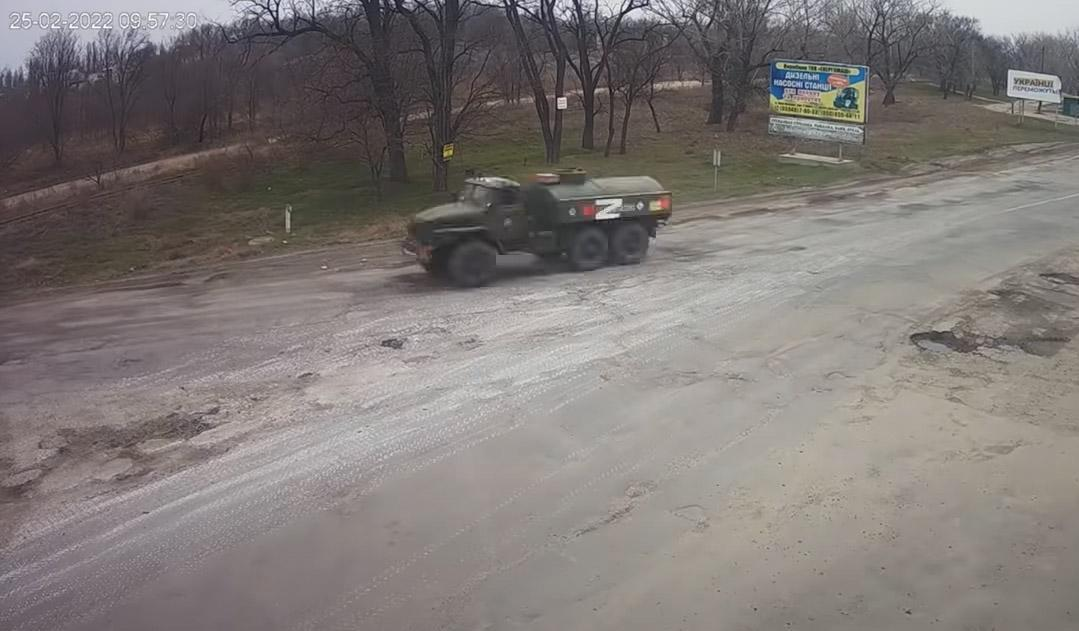truck: (384, 171, 685, 291)
